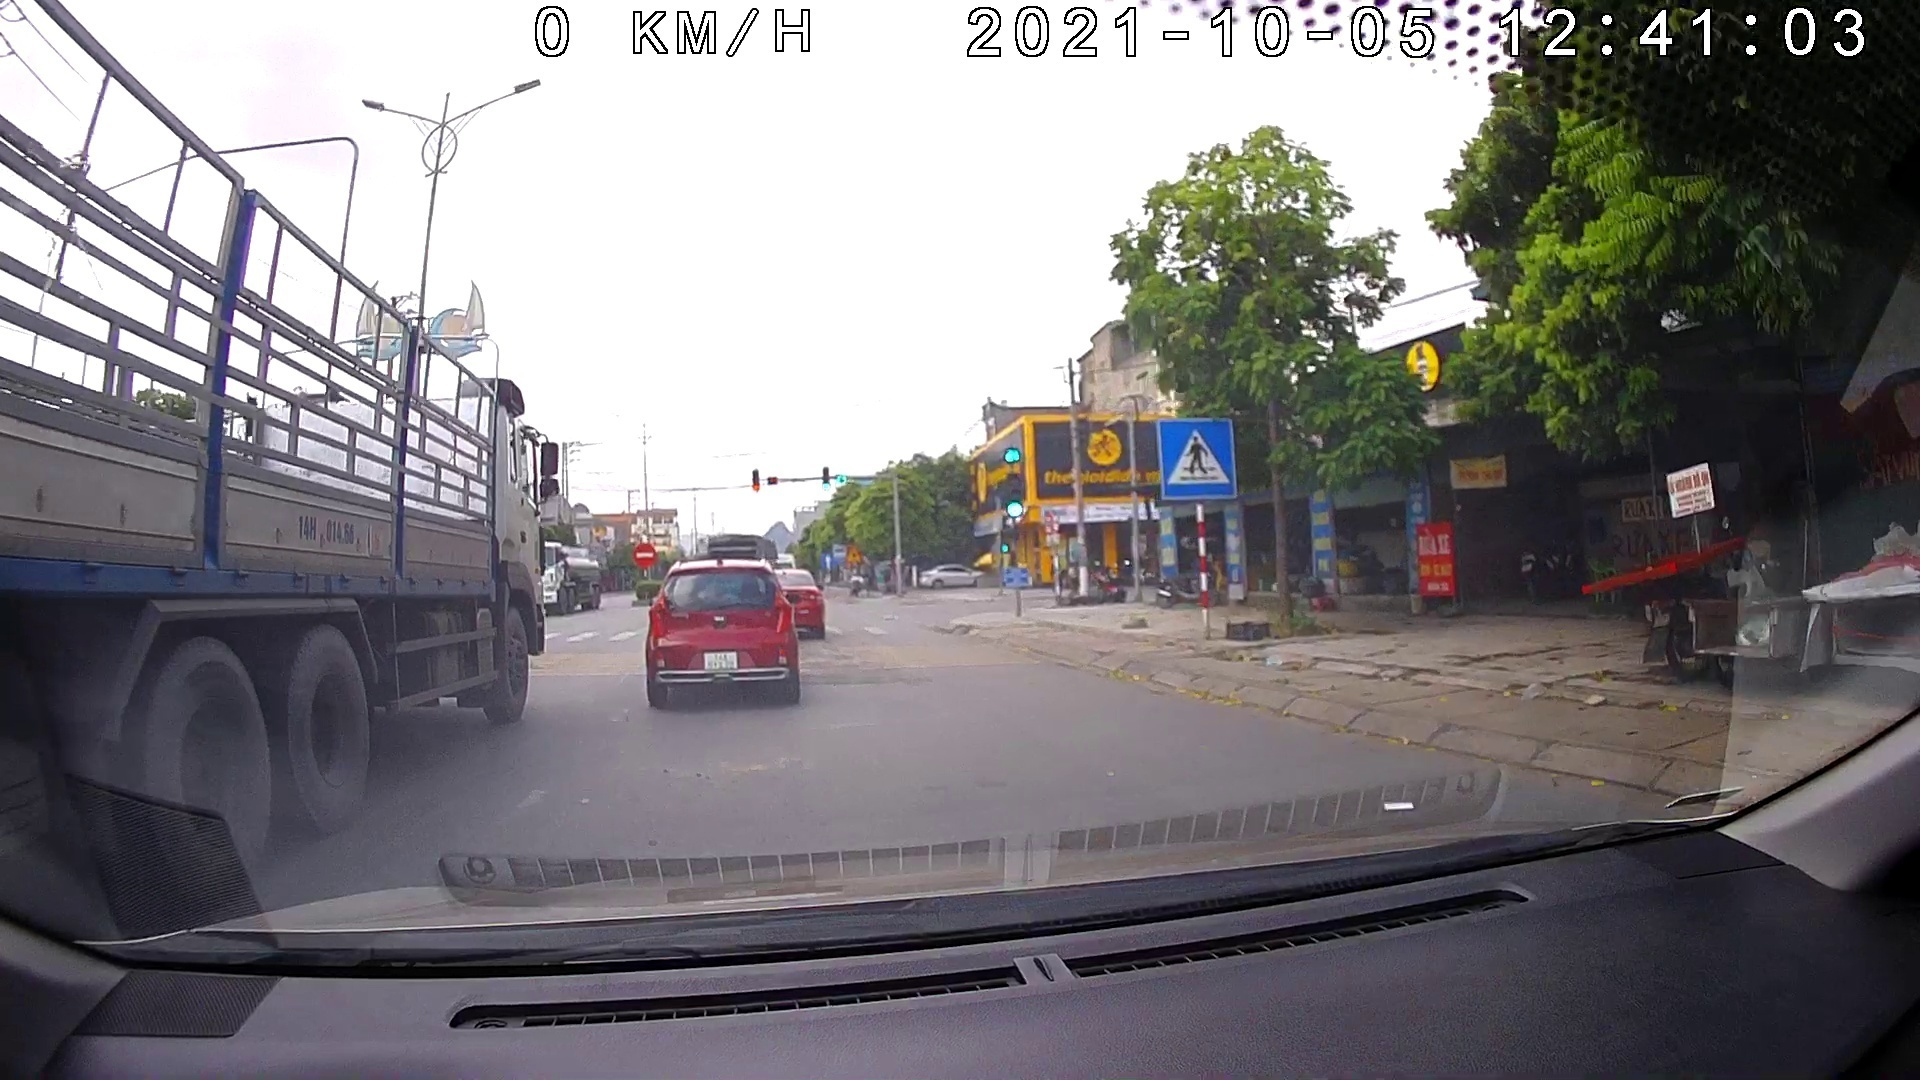Cam di nguoc chieu: (632, 542, 654, 563)
Nguoi di bo: (1158, 415, 1240, 502)
